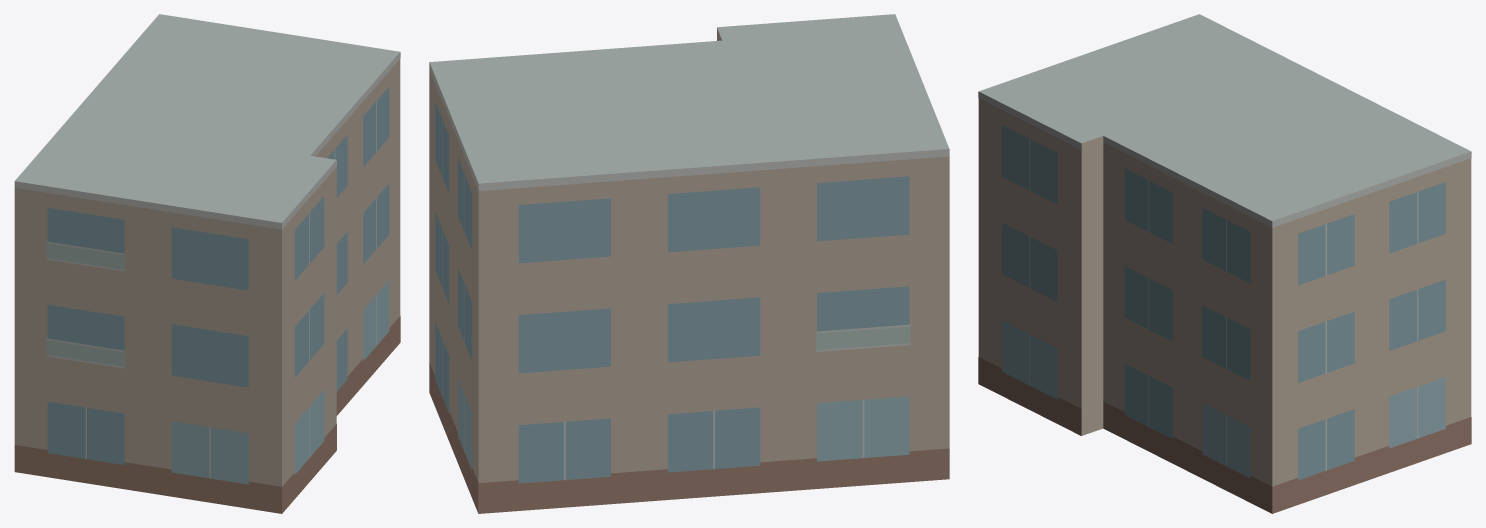
File: survey-upis-32774242.glb
The picture shows the model from 3 angles, left to right: view 1: azimuth 30°, elevation 25°; view 2: azimuth 150°, elevation 25°; view 3: azimuth 270°, elevation 25°; orthographic projection. The views are drawn at different scales.
Visible parts, largest first — view 1: survey-upis-32774242.tmp; view 2: survey-upis-32774242.tmp; view 3: survey-upis-32774242.tmp.
Part boxes in pixels (left/top/right/bottom): survey-upis-32774242.tmp: left=14, top=14, right=400, bottom=513; survey-upis-32774242.tmp: left=429, top=14, right=949, bottom=513; survey-upis-32774242.tmp: left=978, top=14, right=1471, bottom=513.
Bounding box in the file's own units: 16.41 × 10.8 × 16.49.
